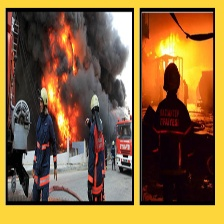fire: (43, 18, 84, 141), (155, 35, 184, 67)
smoke: (34, 10, 129, 134)
